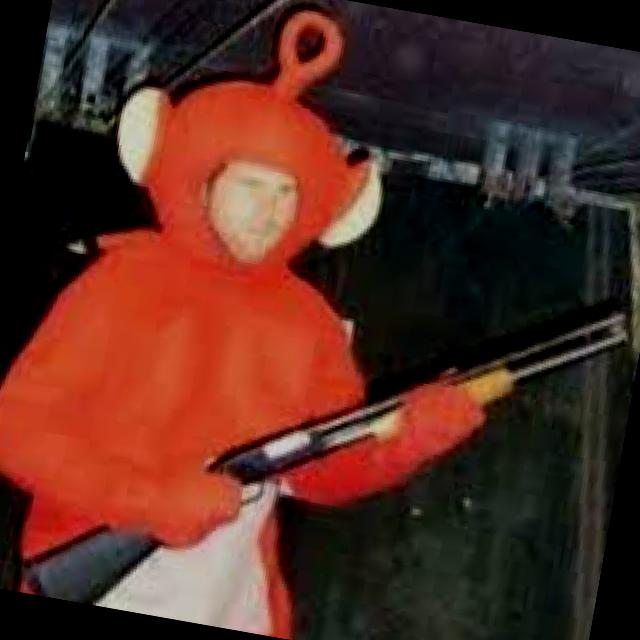long weapon: (10, 294, 640, 611)
